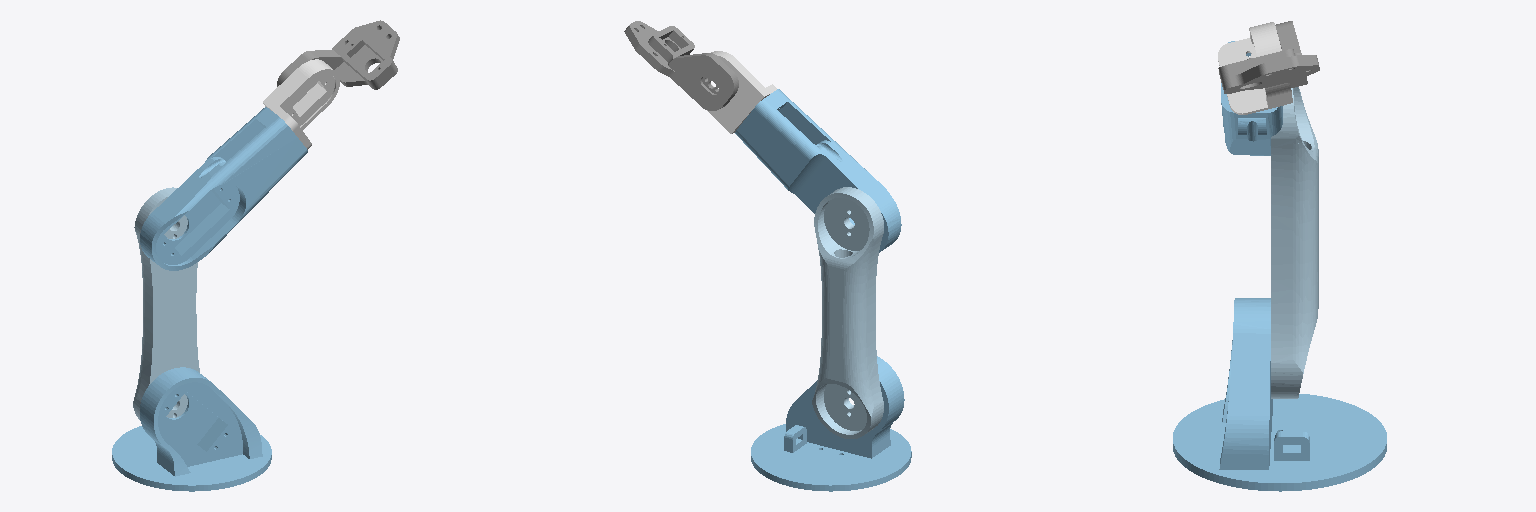
URDF robot description (onshape):
<robot name="onshape">
    
    <!-- <link name="dummy" /> -->
    <link name="world" />

    <joint name="world_to_base_link=" type="fixed">
    <parent link="world"/>
    <child link="link_base"/>
  </joint>

    <link name="link_base">
        <visual>
            <origin xyz="-7.3532502849424115608e-65 4.3879474921794448663e-33 -1.6365532380980035014e-49" rpy="1.9428902930940234527e-16 3.7296554733501272411e-17 1.570796326794896558" />
            <geometry>
                <mesh filename="package://tangs5dof/urdf/link_base.stl" />
            </geometry>
            <material name="link_base_material">
                <color rgba="0.91764705882352937127 0.91764705882352937127 0.91764705882352937127 1.0" />
            </material>
        </visual>
        <collision>
            <origin xyz="-7.3532502849424115608e-65 4.3879474921794448663e-33 -1.6365532380980035014e-49" rpy="1.9428902930940234527e-16 3.7296554733501272411e-17 1.570796326794896558" />
            <geometry>
                <mesh filename="package://tangs5dof/urdf/link_base.stl" />
            </geometry>
        </collision>
        <inertial>
            <origin xyz="1.3255133999615608859e-05 0.00011682982551327208184 0.022301360573266926224" rpy="0 0 0" />
            <mass value="0.12002083594684367918" />
            <inertia ixx="0.0001719477042664719756" ixy="1.4995133842293125234e-09" ixz="-7.4030030482844742652e-10" iyy="0.00015985952079173305061" iyz="4.8835847869682312946e-06" izz="0.00025973363809823093963" />
        </inertial>
    </link>
    
    <!-- 
    <joint name="dummy_joint" type="fixed">
        <parent link="dummy" />
        <child link="link_base" />
    </joint>
    -->
    <link name="link_body">
        <visual>
            <origin xyz="0 -8.6666847497425613388e-34 0" rpy="0 -0 -4.0549623174188608425e-31" />
            <geometry>
                <mesh filename="package://tangs5dof/urdf/link_body.stl" />
            </geometry>
            <material name="link_body_material">
                <color rgba="0.61568627450980395466 0.81176470588235294379 0.92941176470588238168 1.0" />
            </material>
        </visual>
        <collision>
            <origin xyz="0 -8.6666847497425613388e-34 0" rpy="0 -0 -4.0549623174188608425e-31" />
            <geometry>
                <mesh filename="package://tangs5dof/urdf/link_body.stl" />
            </geometry>
        </collision>
        <inertial>
            <origin xyz="-0.0064368927716282314105 0.0013556622490916725183 0.017283456862703730494" rpy="0 0 0" />
            <mass value="0.085013969989408674777" />
            <inertia ixx="7.2590632130354294728e-05" ixy="7.9880225262161873533e-07" ixz="6.467979915412664964e-06" iyy="5.6210967383201727811e-05" iyz="-7.7893279410219734484e-06" izz="6.8281916421221113987e-05" />
        </inertial>
    </link>
    <link name="link_arm">
        <visual>
            <origin xyz="-0.057663569884095058904 0.00060194423267773133901 0" rpy="3.141592653589793116 -2.3506288325066302971e-18 -1.570796326794896558" />
            <geometry>
                <mesh filename="package://tangs5dof/urdf/link_arm.stl" />
            </geometry>
            <material name="link_arm_material">
                <color rgba="0.76862745098039220171 0.88627450980392152857 0.95294117647058818044 1.0" />
            </material>
        </visual>
        <collision>
            <origin xyz="-0.057663569884095058904 0.00060194423267773133901 0" rpy="3.141592653589793116 -2.3506288325066302971e-18 -1.570796326794896558" />
            <geometry>
                <mesh filename="package://tangs5dof/urdf/link_arm.stl" />
            </geometry>
        </collision>
        <inertial>
            <origin xyz="-0.05920077844297864933 -1.2406768289500774358e-05 -0.0077948564897016917041" rpy="0 0 0" />
            <mass value="0.079963772883510669809" />
            <inertia ixx="1.1383675248669571873e-05" ixy="-1.0270272944390147578e-09" ixz="2.9902863431550195164e-07" iyy="0.00013379400877519765029" iyz="2.6825379734455362387e-10" izz="0.00013980580671442969414" />
        </inertial>
    </link>
    <link name="link_forearm">
        <visual>
            <origin xyz="-6.3594060484284398171e-07 -0.032248319962359550672 0.0060000000521540641785" rpy="-3.141592653589793116 1.2685039077372661776e-19 5.5511151231257827021e-17" />
            <geometry>
                <mesh filename="package://tangs5dof/urdf/link_forearm.stl" />
            </geometry>
            <material name="link_forearm_material">
                <color rgba="0.61568627450980395466 0.81176470588235294379 0.92941176470588238168 1.0" />
            </material>
        </visual>
        <collision>
            <origin xyz="-6.3594060484284398171e-07 -0.032248319962359550672 0.0060000000521540641785" rpy="-3.141592653589793116 1.2685039077372661776e-19 5.5511151231257827021e-17" />
            <geometry>
                <mesh filename="package://tangs5dof/urdf/link_forearm.stl" />
            </geometry>
        </collision>
        <inertial>
            <origin xyz="2.7236465313178384172e-05 -0.039262587428392996258 -0.0074010368270877070762" rpy="0 0 0" />
            <mass value="0.052819407015602941324" />
            <inertia ixx="5.7316835569171644879e-05" ixy="7.3935105052972372161e-08" ixz="6.1035161362996404119e-10" iyy="9.7447534283257420897e-06" iyz="-2.896290949500153478e-07" izz="6.1042835938249356289e-05" />
        </inertial>
    </link>
    <link name="link_hand">
        <visual>
            <origin xyz="0.0049857126365458193096 -0.014010243159726661066 -0.023000000044703455826" rpy="-1.570796326794896558 5.5511151231257827021e-17 0" />
            <geometry>
                <mesh filename="package://tangs5dof/urdf/link_hand.stl" />
            </geometry>
            <material name="link_hand_material">
                <color rgba="0.91764705882352937127 0.91764705882352937127 0.91764705882352937127 1.0" />
            </material>
        </visual>
        <collision>
            <origin xyz="0.0049857126365458193096 -0.014010243159726661066 -0.023000000044703455826" rpy="-1.570796326794896558 5.5511151231257827021e-17 0" />
            <geometry>
                <mesh filename="package://tangs5dof/urdf/link_hand.stl" />
            </geometry>
        </collision>
        <inertial>
            <origin xyz="0.0050326087805534370362 -0.0061422584177719657256 -0.01770217860207829591" rpy="0 0 0" />
            <mass value="0.018279517977360375258" />
            <inertia ixx="4.4689541870605957306e-06" ixy="-6.0435273610317869849e-09" ixz="-1.5037566394940168762e-08" iyy="5.5538040396556170752e-06" iyz="-6.9194619595702871215e-07" izz="2.6129274261730799253e-06" />
        </inertial>
    </link>
    <link name="link_palm">
        <visual>
            <origin xyz="-0.013999994578522745314 -0.013999995911103513269 -0.01400000043213368156" rpy="-1.570796326794896558 -1.570796326794896558 0" />
            <geometry>
                <mesh filename="package://tangs5dof/urdf/link_palm.stl" />
            </geometry>
            <material name="link_palm_material">
                <color rgba="0.64705882352941179736 0.64705882352941179736 0.64705882352941179736 1.0" />
            </material>
        </visual>
        <collision>
            <origin xyz="-0.013999994578522745314 -0.013999995911103513269 -0.01400000043213368156" rpy="-1.570796326794896558 -1.570796326794896558 0" />
            <geometry>
                <mesh filename="package://tangs5dof/urdf/link_palm.stl" />
            </geometry>
        </collision>
        <inertial>
            <origin xyz="0.0060326973655727214596 0.024198225332850091529 0.0023721375113497922271" rpy="0 0 0" />
            <mass value="0.020500595775101038837" />
            <inertia ixx="1.0452555817284263213e-05" ixy="-1.7678997608973621871e-06" ixz="-4.7579438568302441839e-07" iyy="3.3320328451904816786e-06" iyz="-1.8966646485366233942e-06" izz="9.2794580348070164315e-06" />
        </inertial>
    </link>
    <joint name="wrist_pitch" type="revolute">
        <origin xyz="0.0049813961386296901068 -0.014010243159726681883 -0.027996103280433365379" rpy="-1.570796326794896558 -0.038080793091696346631 -5.4995910972554887091e-15" />
        <parent link="link_hand" />
        <child link="link_palm" />
        <axis xyz="0 0 1" />
        <limit effort="1" velocity="20" lower="-1.570796326794896558" upper="1.570796326794896558" />
        <joint_properties friction="0.0" />
    </joint>
    <joint name="wrist_yaw" type="revolute">
        <origin xyz="-0.0053082245392911675541 -0.089748321005440834242 -0.0075144749285244276382" rpy="-1.570796326794896558 -0.26234740040539716865 7.9319393344061070401e-15" />
        <parent link="link_forearm" />
        <child link="link_hand" />
        <axis xyz="0 0 1" />
        <limit effort="1" velocity="20" lower="-1.570796326794896558" upper="1.570796326794896558" />
        <joint_properties friction="0.0" />
    </joint>
    <joint name="elbow" type="revolute">
        <origin xyz="-0.11998739918318489239 -2.1231879309170642589e-06 1.7347234759768070944e-18" rpy="3.141592653589793116 -7.8822160764989523078e-16 0.60886401637823828192" />
        <parent link="link_arm" />
        <child link="link_forearm" />
        <axis xyz="0 0 1" />
        <limit effort="1" velocity="20" lower="-3.141592653589793116" upper="2.0943951023931952626" />
        <joint_properties friction="0.0" />
    </joint>
    <joint name="shoulder" type="revolute">
        <origin xyz="-0.0040000001899898043542 0.013965289960663616886 0.040301559464014063972" rpy="1.5707963267953313213 1.5702417558227264038 -1.570796326798316267" />
        <parent link="link_body" />
        <child link="link_arm" />
        <axis xyz="0 0 1" />
        <limit effort="1" velocity="20" lower="-1.570796326794896558" upper="1.570796326794896558" />
        <joint_properties friction="0.0" />
    </joint>
    <joint name="waist" type="revolute">
        <origin xyz="5.0306980803327405738e-17 1.3114530717629603727e-18 0.056000001728534705425" rpy="2.0816681711721669356e-15 4.5796699765786533862e-16 1.5455769190268391355" />
        <parent link="link_base" />
        <child link="link_body" />
        <axis xyz="0 0 1" />
        <limit effort="1" velocity="20" lower="-1.570796326794896558" upper="1.570796326794896558" />
        <joint_properties friction="0.0" />
    </joint>
    
    
    <transmission name="trans_waist">
        <type>transmission_interface/SimpleTransmission</type>
        <joint name="waist">
            <hardwareInterface>hardware_interface/EffortJointInterface</hardwareInterface>
        </joint>
        <actuator name="waist_motor">
            <hardwareInterface>hardware_interface/EffortJointInterface</hardwareInterface>
            <mechanicalReduction>1</mechanicalReduction>
        </actuator>
    </transmission>
    
    <gazebo>
        <plugin name="gazebo_ros_control" filename="libgazebo_ros_control.so">
    <robotNamespace>/onshape</robotNamespace>
  </plugin>
</gazebo>
</robot>

--- Render facts (derived) ---
The picture shows the robot from 3 angles, left to right: view 1: azimuth 30°, elevation 25°; view 2: azimuth 150°, elevation 25°; view 3: azimuth 270°, elevation 25°; orthographic projection.
Robot: onshape — 7 links, 6 joints (5 revolute, 1 fixed); root link world; default pose: every joint at zero.
Visible links, largest first — view 1: link_body, link_forearm, link_arm, link_palm, link_hand; view 2: link_arm, link_body, link_forearm, link_palm, link_hand; view 3: link_body, link_arm, link_palm, link_hand, link_forearm.
Boxes of the visible links, bbox=[...] form: link_body: bbox=[112, 367, 271, 491]; link_forearm: bbox=[140, 107, 307, 270]; link_arm: bbox=[133, 187, 199, 419]; link_palm: bbox=[277, 20, 399, 89]; link_hand: bbox=[263, 59, 339, 149]; link_arm: bbox=[812, 187, 883, 438]; link_body: bbox=[751, 356, 911, 491]; link_forearm: bbox=[735, 89, 901, 252]; link_palm: bbox=[624, 21, 738, 110]; link_hand: bbox=[707, 51, 776, 133]; link_body: bbox=[1173, 298, 1386, 491]; link_arm: bbox=[1271, 87, 1318, 398]; link_palm: bbox=[1218, 21, 1319, 93]; link_hand: bbox=[1218, 22, 1292, 114]; link_forearm: bbox=[1221, 41, 1282, 155].
Size in the robot's own frame: 0.1903 by 0.097 by 0.2584 metres.
Meshes: 6 distinct files referenced, 5 mesh visuals loaded (5 binary STL); not drawn: 1 (reference not matched to a file when rendering).
